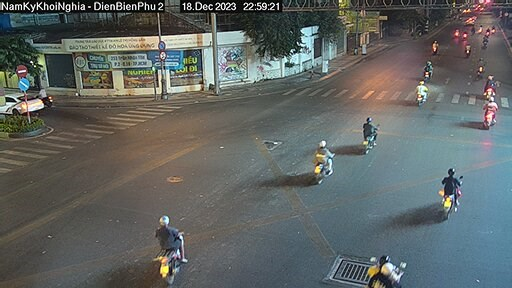car: (1, 88, 45, 118)
motorbike: (155, 218, 187, 280), (438, 171, 470, 217), (310, 138, 336, 179), (354, 122, 381, 152), (483, 75, 503, 104), (483, 103, 503, 131), (412, 77, 430, 106), (422, 57, 436, 78)
